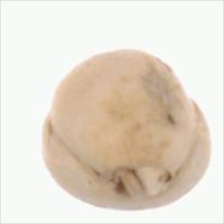L3: (108, 165, 180, 200)
L4: (40, 49, 211, 211)
